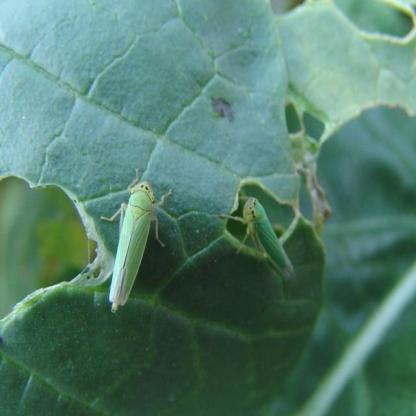Green-Leafhopper: (99, 170, 172, 318), (220, 190, 298, 287)
